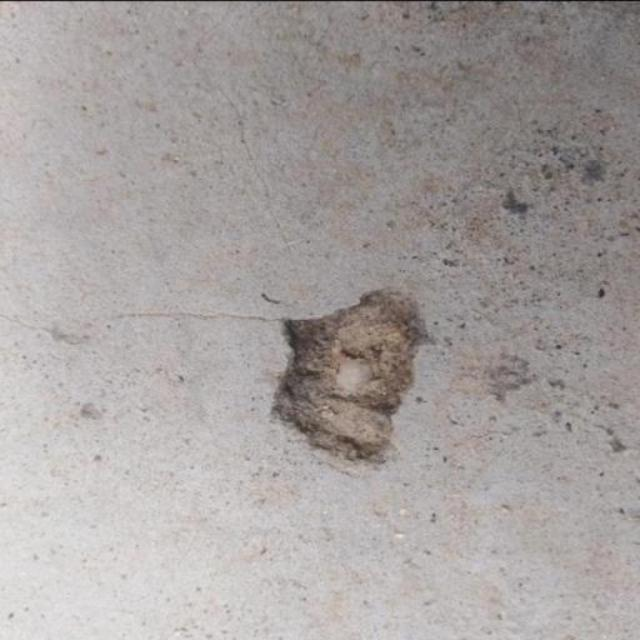D10: (270, 290, 433, 473)
